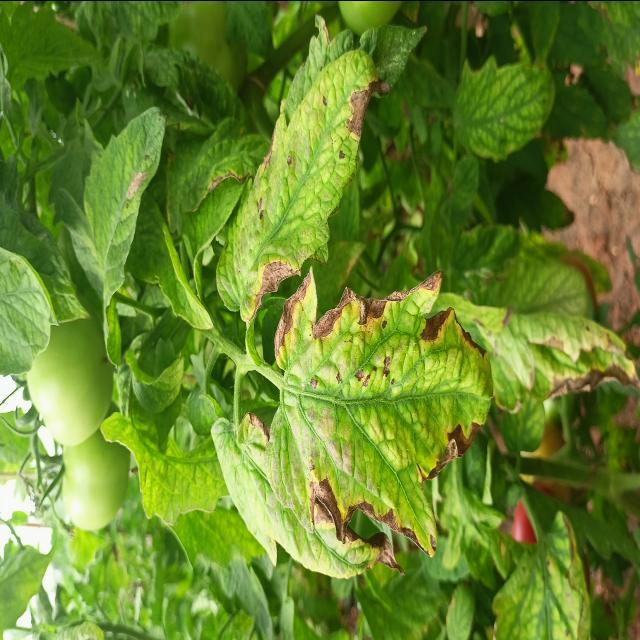Tomato mosaic virus leaf: (266, 262, 500, 558), (220, 43, 385, 321)
